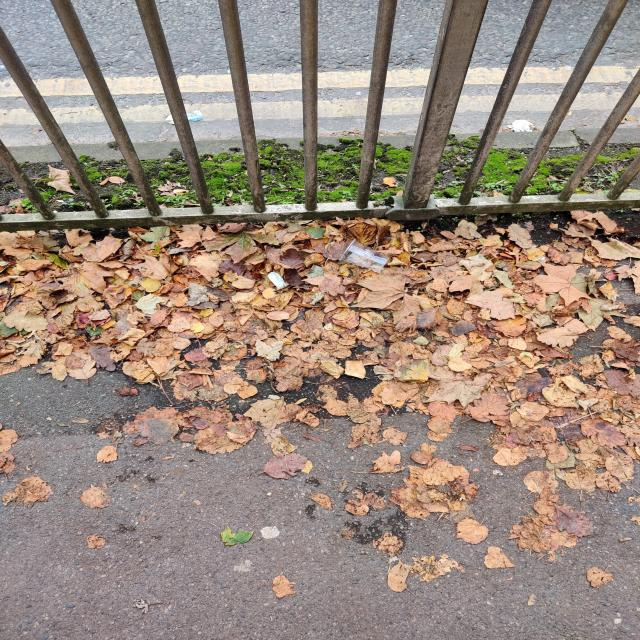litter: (340, 238, 391, 275)
